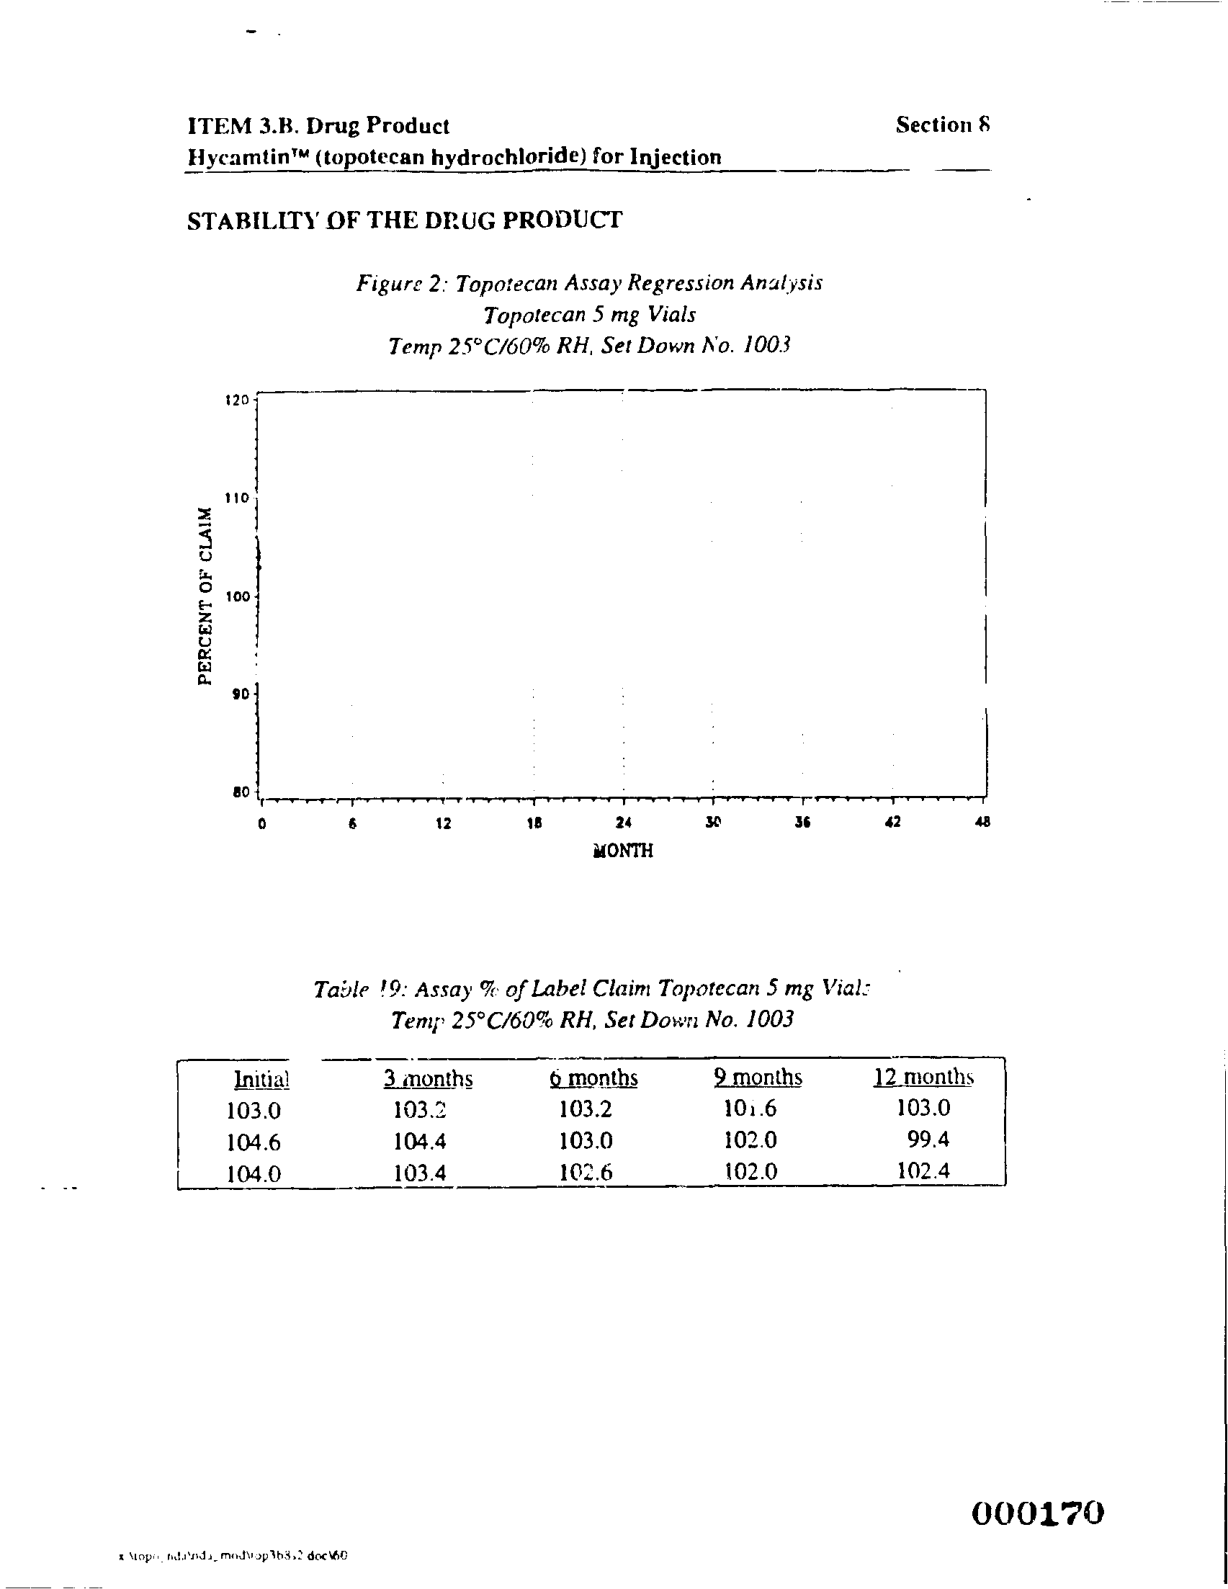partial_lined: (174, 1055, 1007, 1192)
